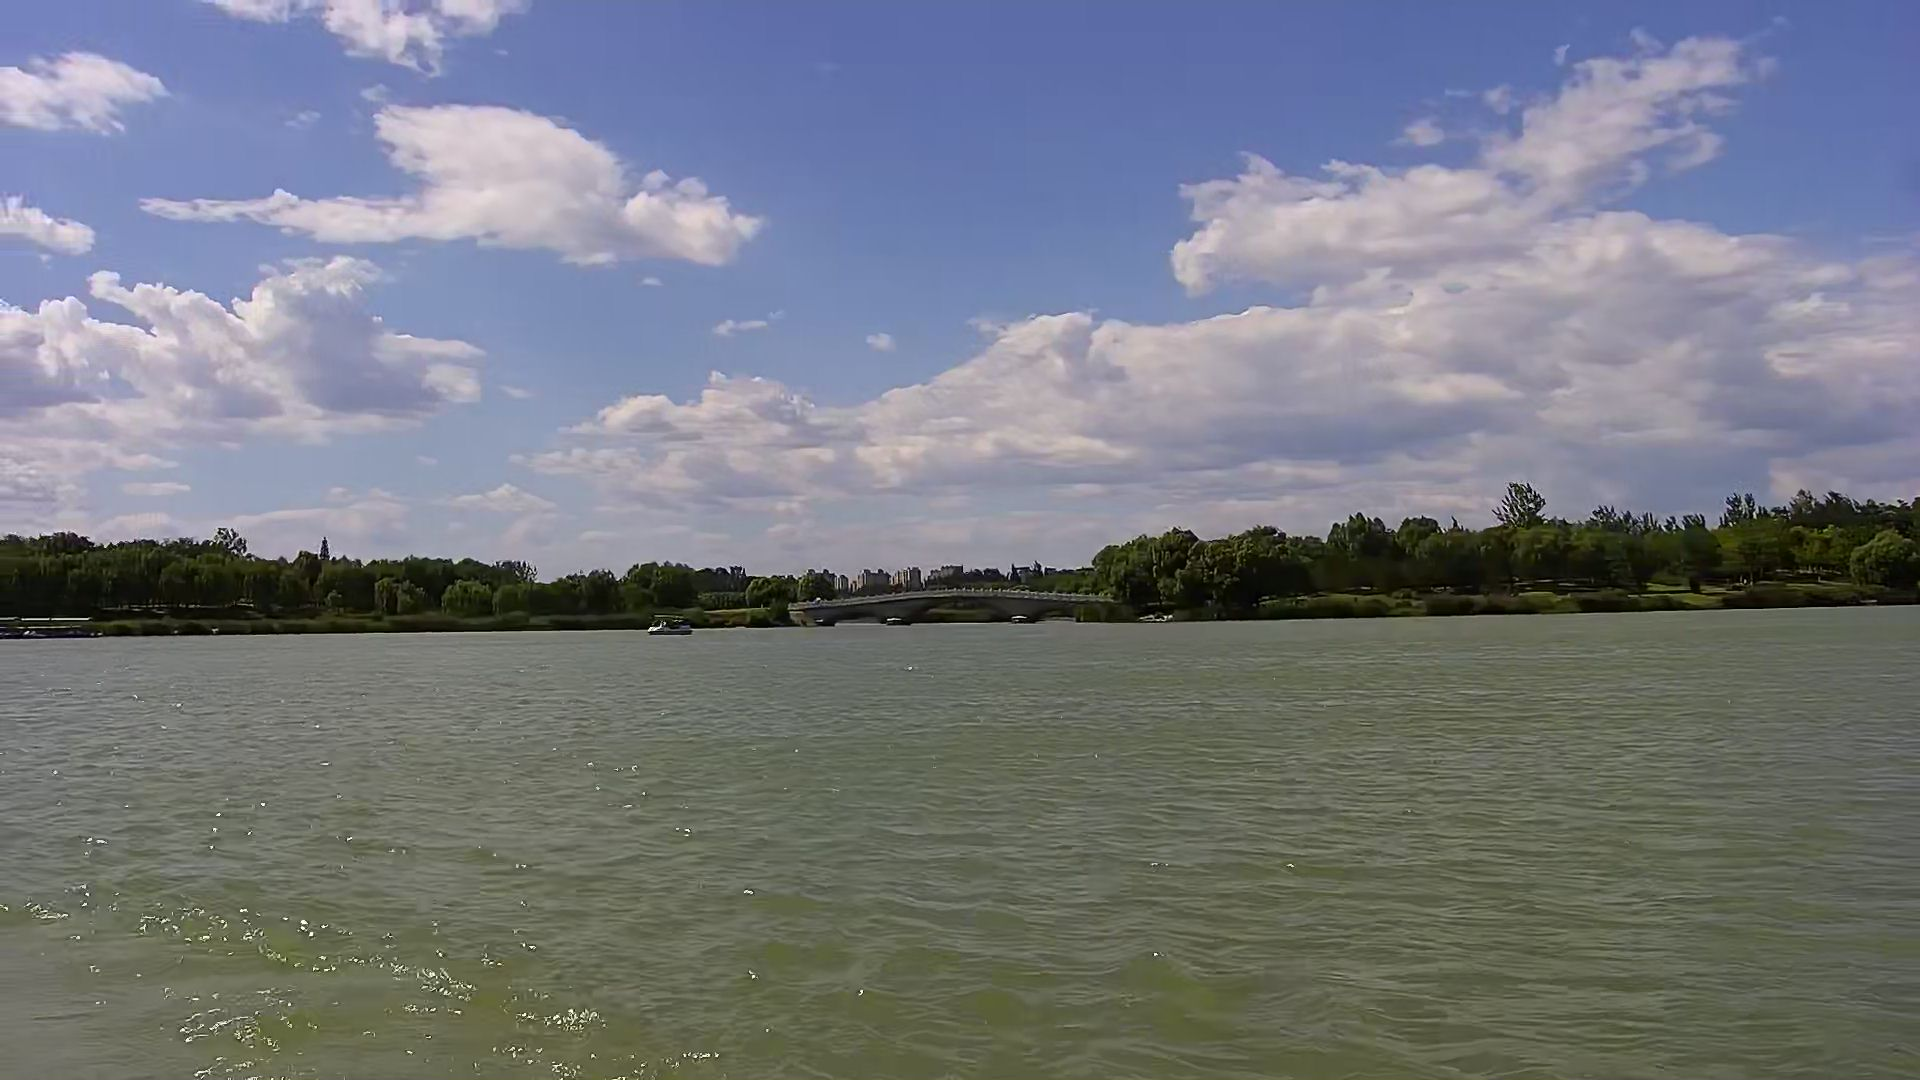boat: (649, 611, 694, 636)
bridge: (791, 585, 1120, 622)
